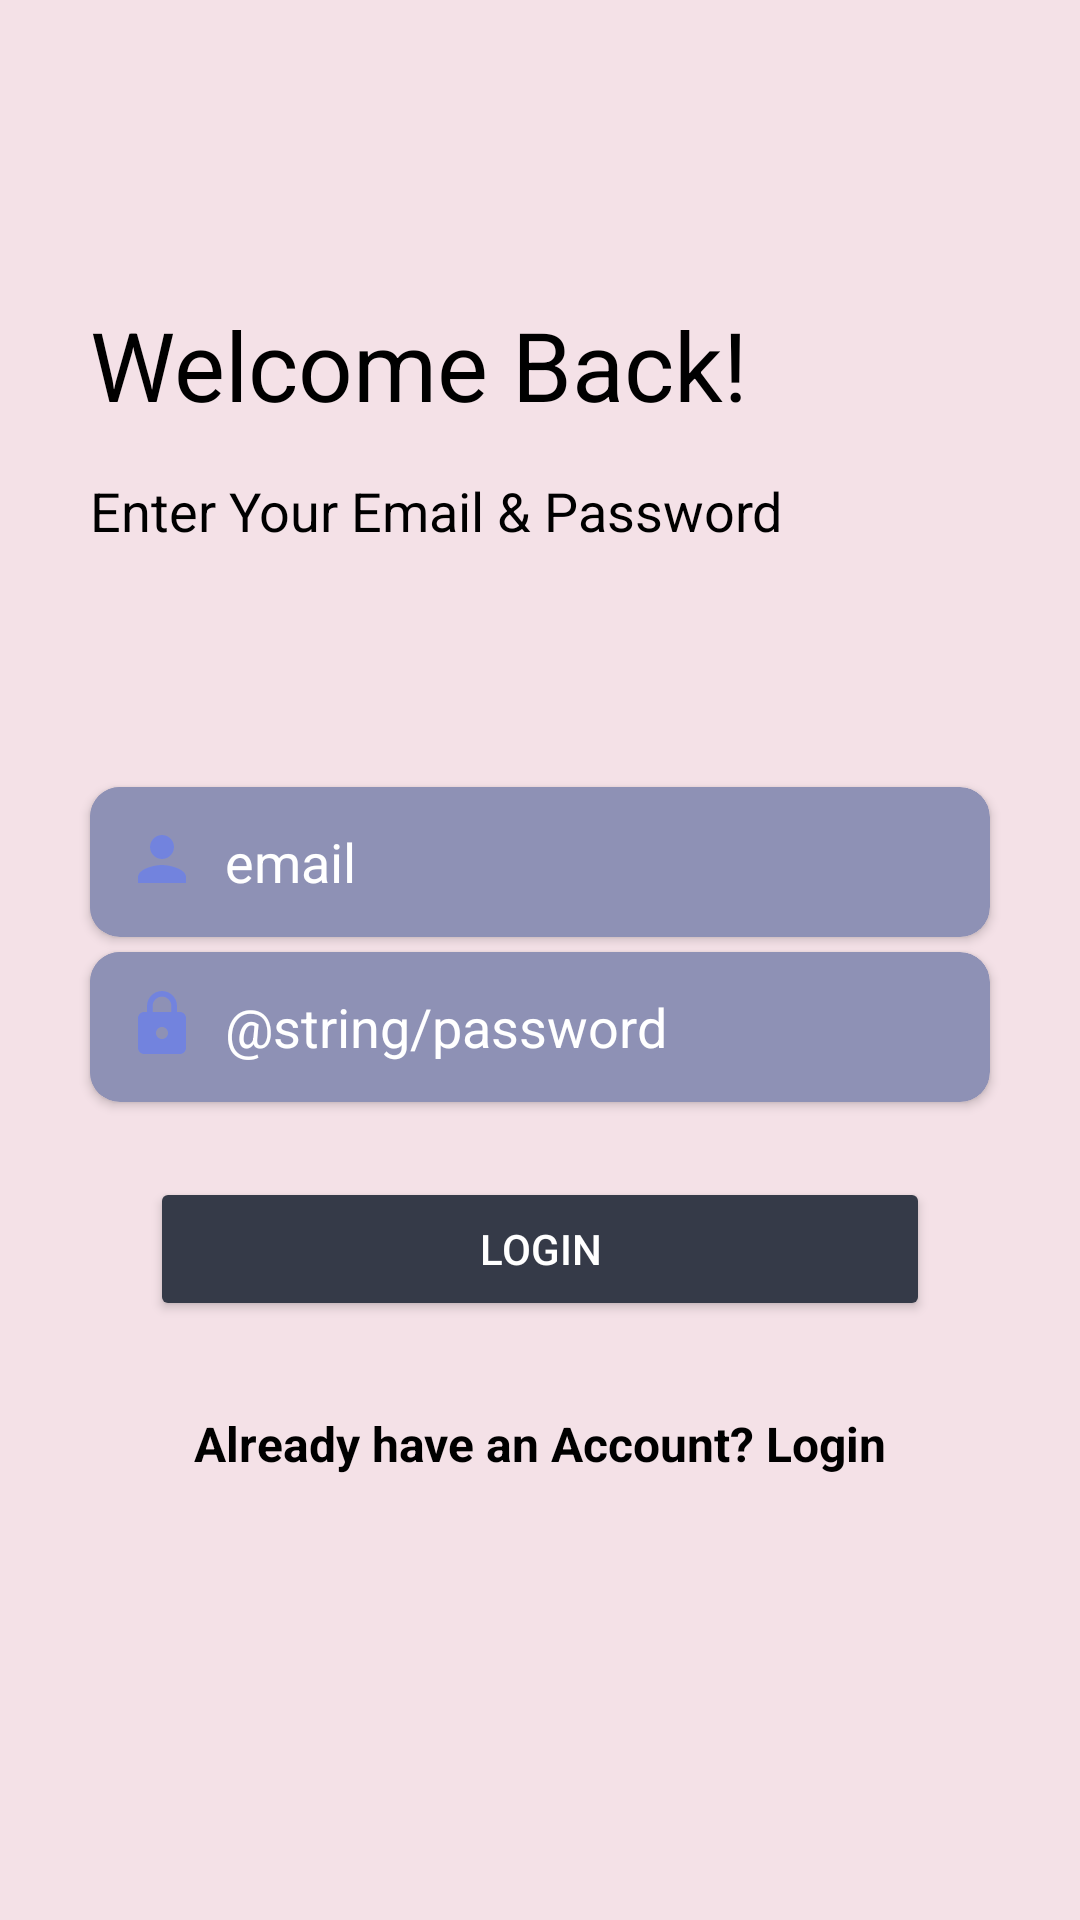

Named icons in this screenshot (1080 x 1920) and their centers, point (x, y):
lock: point (162, 1024)
person: point (162, 859)
